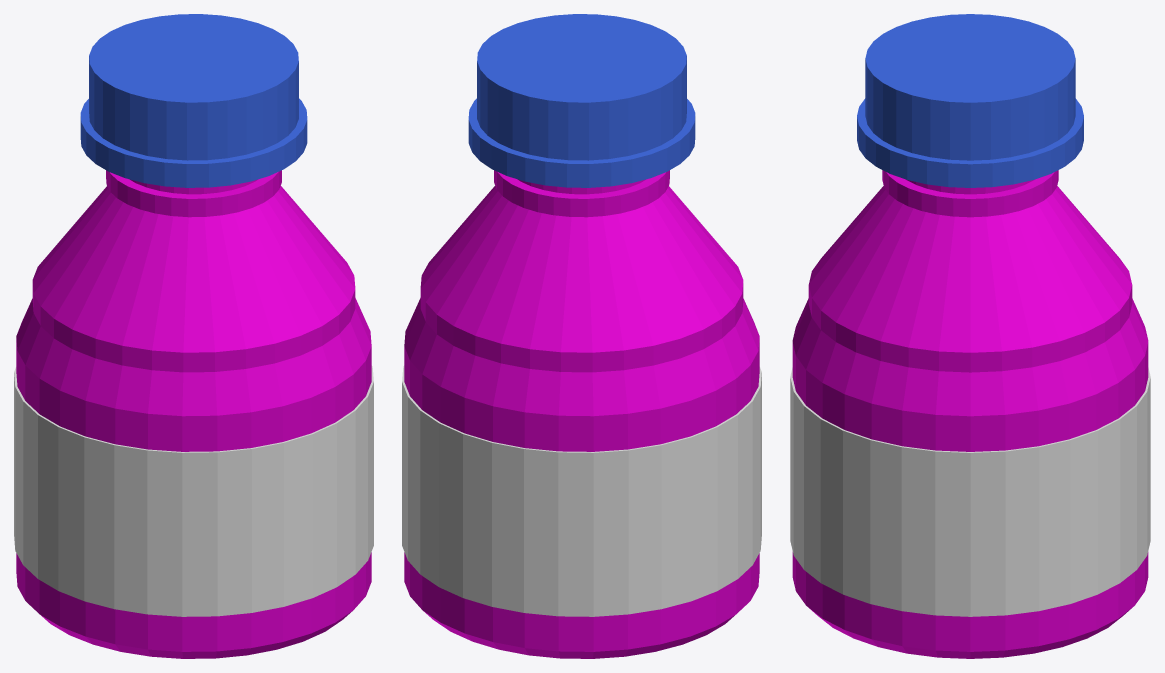
Rendered from Fles2-nonglass.fbx.
3 renders of one model, left to right at view 1: azimuth 30°, elevation 25°; view 2: azimuth 150°, elevation 25°; view 3: azimuth 270°, elevation 25°, orthographic.
Visible parts, largest first — view 1: Cylinder, Cylinder.002, Cylinder.001; view 2: Cylinder, Cylinder.002, Cylinder.001; view 3: Cylinder, Cylinder.002, Cylinder.001.
Part boxes in pixels (box(x1,y1,x2,y2)): Cylinder: box(16, 170, 371, 658); Cylinder.002: box(14, 365, 373, 616); Cylinder.001: box(80, 14, 307, 187); Cylinder: box(404, 170, 759, 658); Cylinder.002: box(402, 365, 761, 616); Cylinder.001: box(468, 14, 695, 187); Cylinder: box(792, 170, 1148, 658); Cylinder.002: box(790, 367, 1150, 616); Cylinder.001: box(857, 14, 1083, 187).
Bounding box in the file's own units: 36.8 × 60.62 × 36.8.
